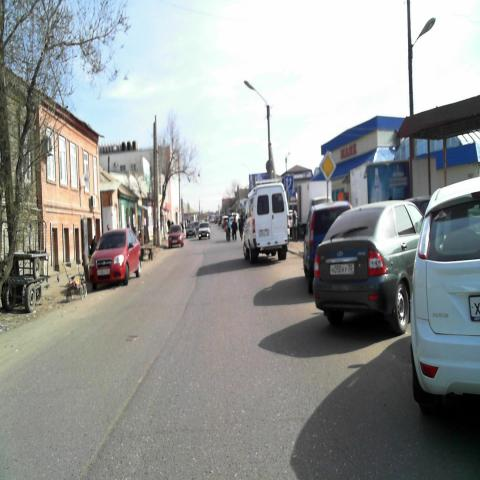5_15_3: (286, 176, 292, 191)
